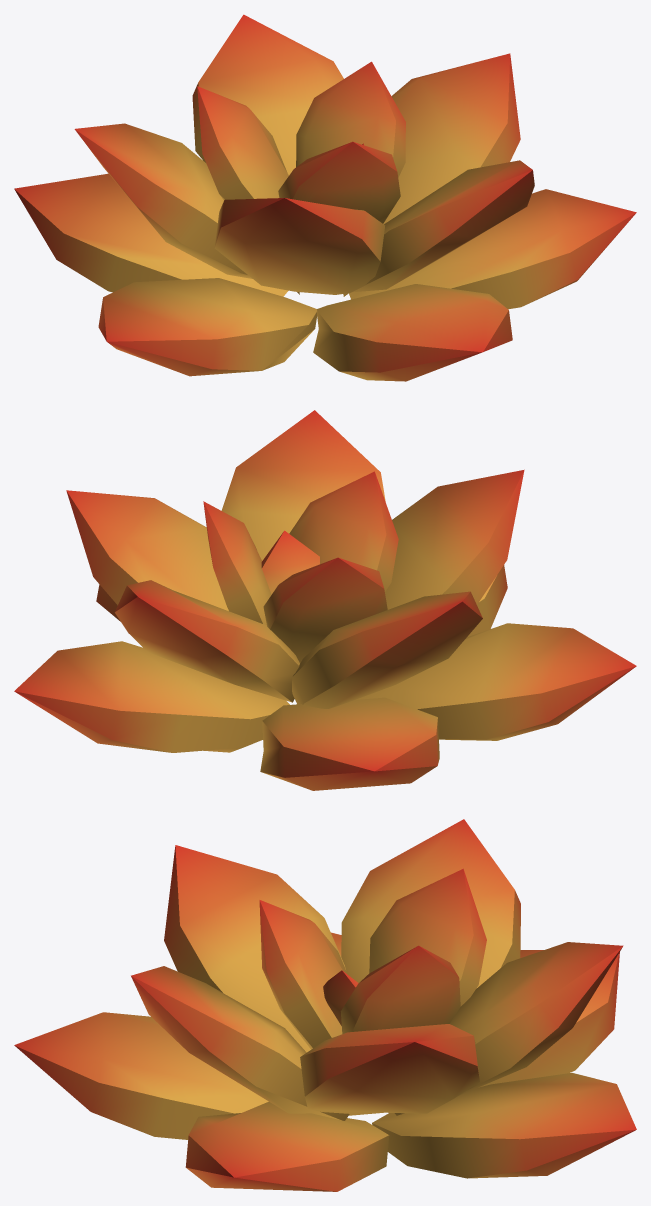
3 renders of one model, top to bottom at view 1: azimuth 30°, elevation 25°; view 2: azimuth 150°, elevation 25°; view 3: azimuth 270°, elevation 25°, orthographic. The views are drawn at different scales.
Visible parts, largest first — view 1: LOD 2_16967760880170184947_4f521bcaeda9b9647b799715f43ad4b9; view 2: LOD 2_16967760880170184947_4f521bcaeda9b9647b799715f43ad4b9; view 3: LOD 2_16967760880170184947_4f521bcaeda9b9647b799715f43ad4b9.
Boxes of the visible parts, left/top/right/bottom form: LOD 2_16967760880170184947_4f521bcaeda9b9647b799715f43ad4b9: left=14, top=14, right=636, bottom=381; LOD 2_16967760880170184947_4f521bcaeda9b9647b799715f43ad4b9: left=14, top=410, right=636, bottom=790; LOD 2_16967760880170184947_4f521bcaeda9b9647b799715f43ad4b9: left=14, top=819, right=636, bottom=1191.
Size of the model in its own units: 0.8955 by 0.3434 by 0.8664.
